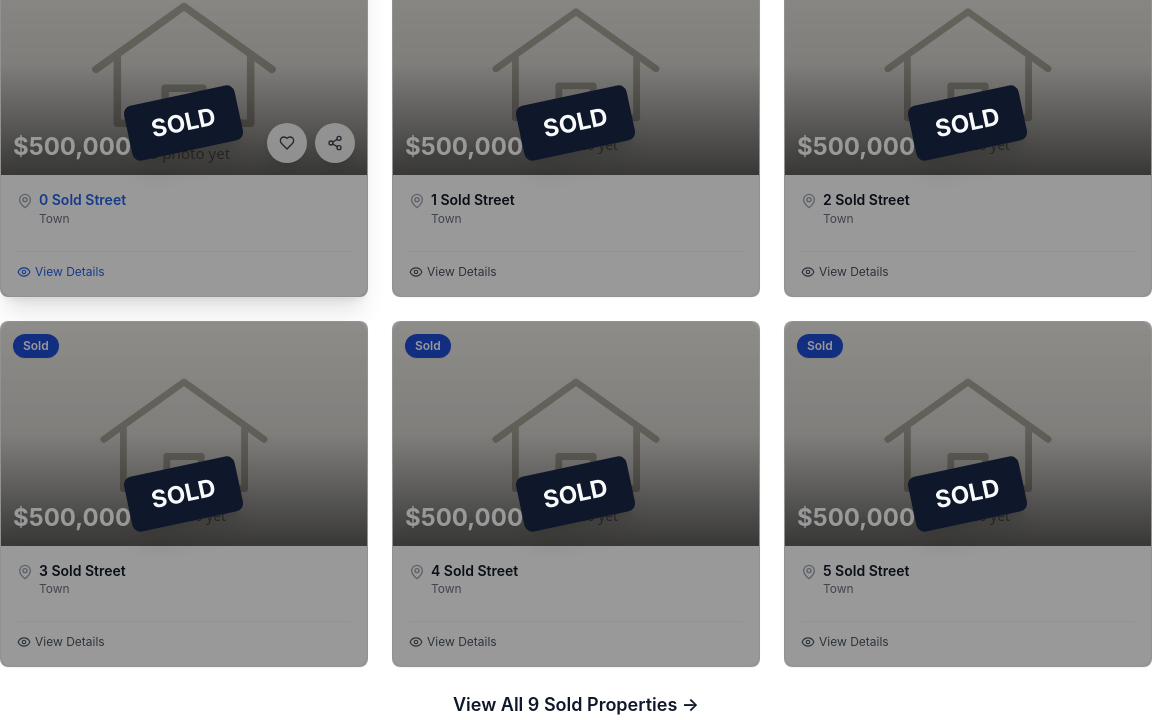
Scenario: SoldProperties › expands when View All is pressed — the button used to do nothing
The image size is (1152, 720).
(page scrolled)
What coordinates should you click on to do the following:
click the button "View All 9 Sold Properties →"
I would click on:
 (576, 705)
Its box is [453, 691, 699, 719].
(page scrolled)
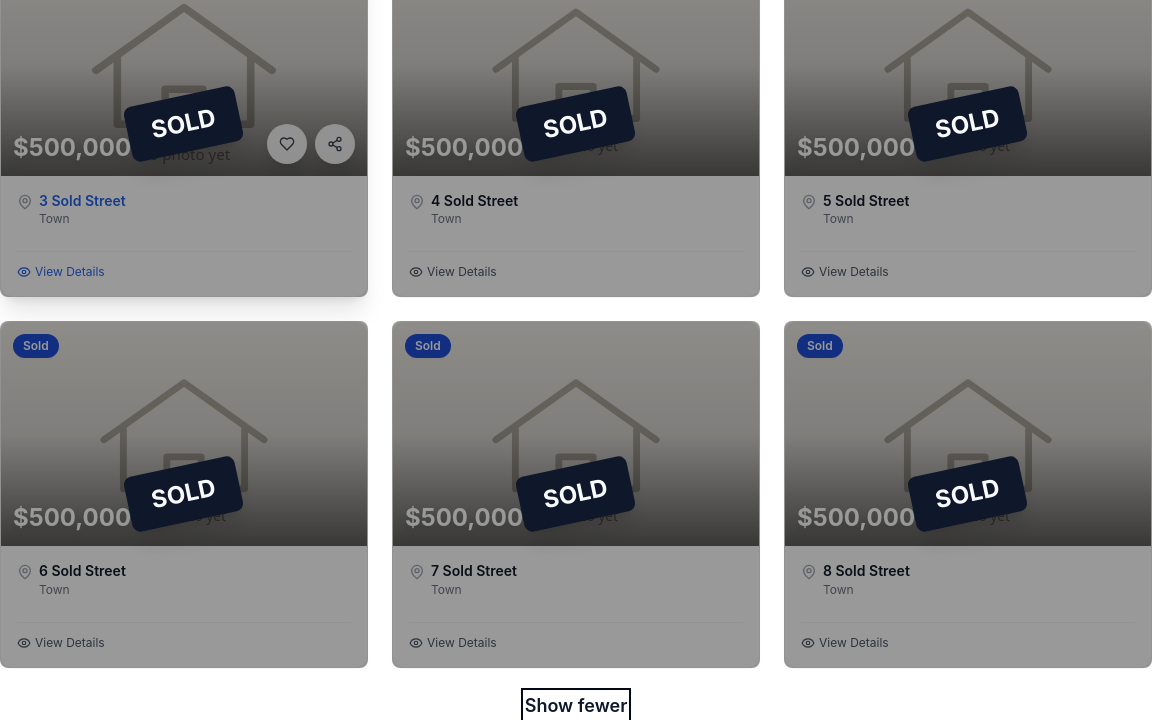
Now the button "8 Sold Street" is shown, box [823, 562, 910, 580]
Now the button "Show fewer" is shown, box [525, 692, 627, 719]
